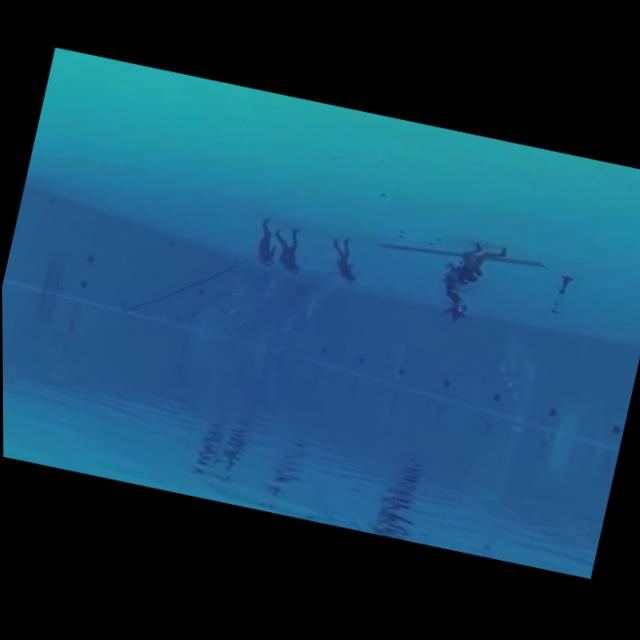human: (430, 229, 513, 318), (262, 222, 314, 286), (318, 231, 370, 293), (243, 212, 287, 279)
